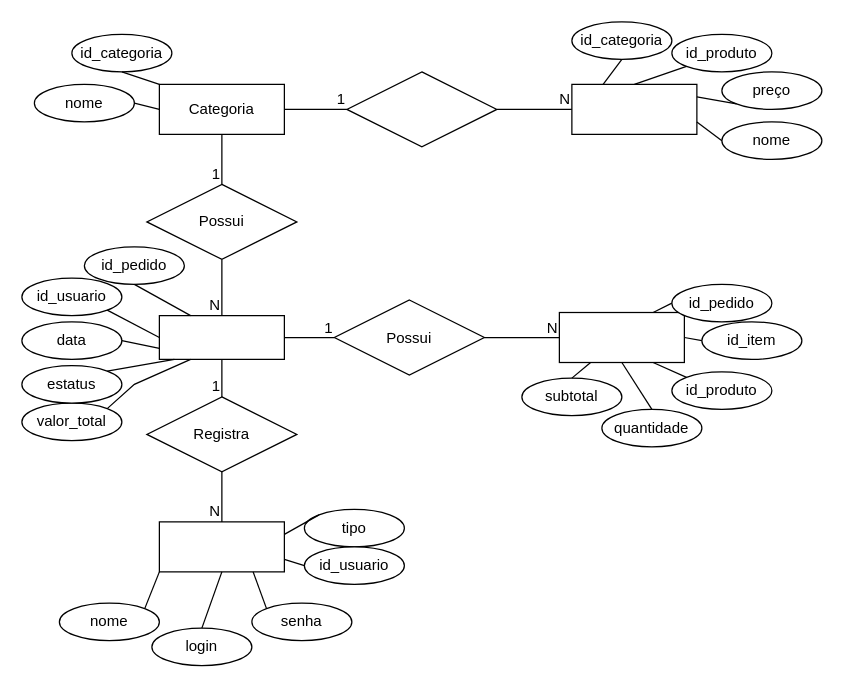
Some shapes in this 844 by 688 pixel diagram are drawn without their labels. The centre of each missing label's shape, as x and y in pixels:
"ItemPedido" goes at point (621, 336).
"Pedido" goes at point (221, 336).
"Pertence" goes at point (421, 109).
"Produto" goes at point (634, 108).
"Usuario" goes at point (221, 546).
